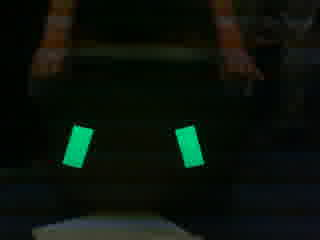target: (58, 121, 209, 173)
